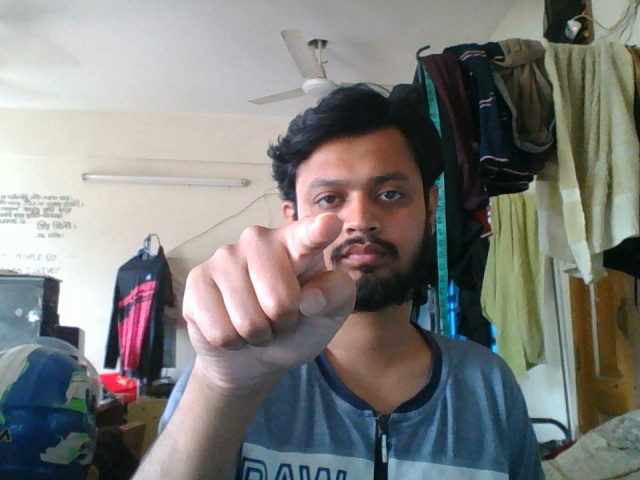tumi: (176, 207, 361, 415)
